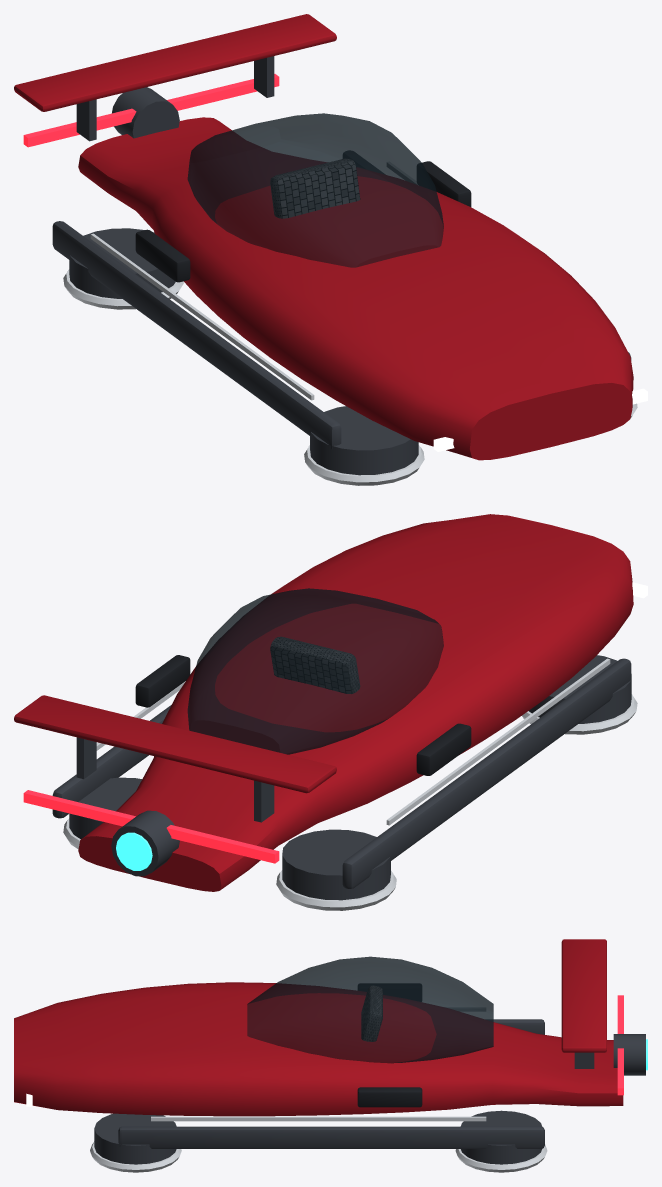
File: car_sport.glb
3 renders of one model, top to bottom at view 1: azimuth 30°, elevation 25°; view 2: azimuth 150°, elevation 25°; view 3: azimuth 270°, elevation 25°, orthographic. The views are drawn at different scales.
Visible parts, largest first — view 1: car_sport; view 2: car_sport; view 3: car_sport.
Boxes of the visible parts, x1,y1,x2,y2 form: car_sport: (14,14,647,485); car_sport: (14,514,647,910); car_sport: (14,939,647,1172).
Size of the model in its own units: 2.15 by 1.2 by 4.89.
